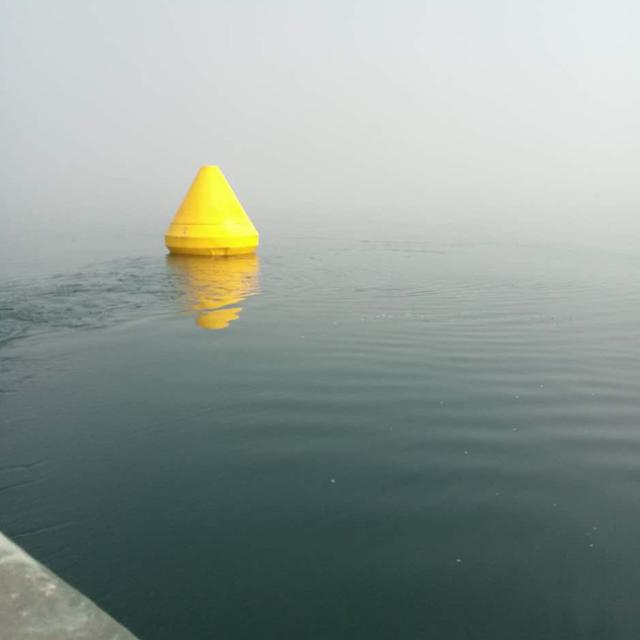buoy: (160, 162, 262, 256)
